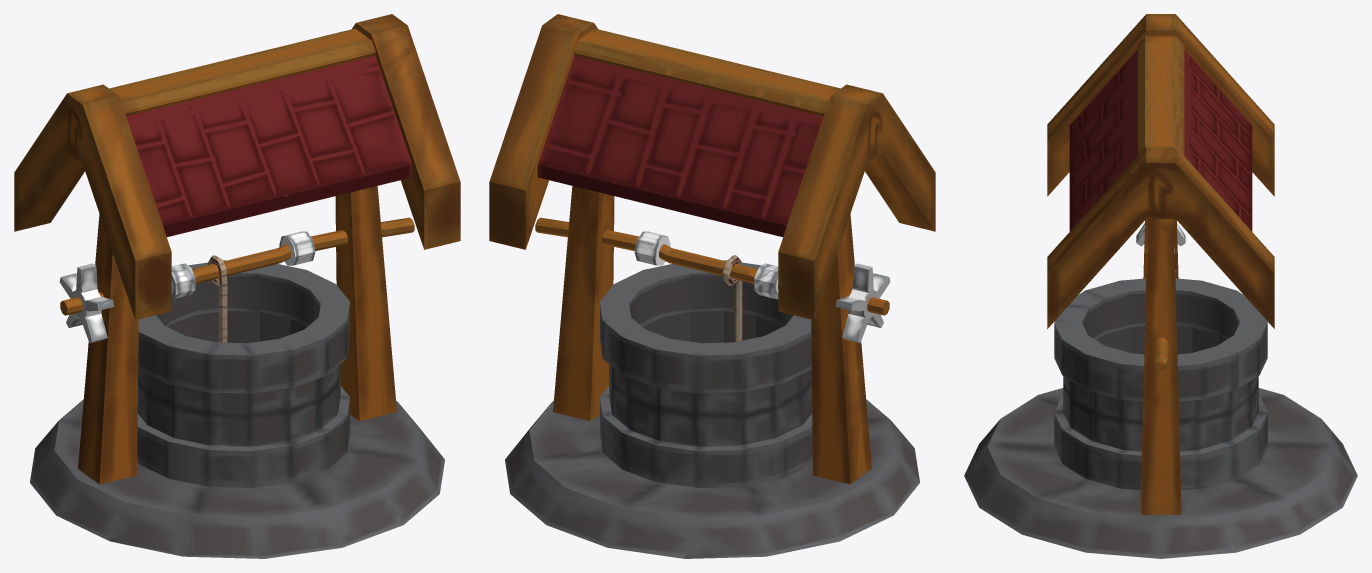
Rendered from WaterWell4.fbx.
3 renders of one model, left to right at view 1: azimuth 30°, elevation 25°; view 2: azimuth 150°, elevation 25°; view 3: azimuth 270°, elevation 25°, orthographic. The views are drawn at different scales.
Visible parts, largest first — view 1: telhadoCentro_low, base_low, telhadoLado_low, pilastra_low, pocoCima_low, pocoMeio_low, pocoBaixo_low, cabo_low, manilha_low, cabo1_low, corda_low, cabo2_low; view 2: telhadoCentro_low, base_low, telhadoLado_low, pilastra_low, pocoCima_low, pocoMeio_low, pocoBaixo_low, cabo_low, manilha_low, cabo1_low, corda_low, cabo2_low; view 3: base_low, telhadoLado_low, telhadoCentro_low, pocoCima_low, pilastra_low, pocoMeio_low, pocoBaixo_low.
Part boxes in pixels (x1,y1,x2,y2): telhadoCentro_low: (109, 28, 412, 236); base_low: (30, 399, 444, 558); telhadoLado_low: (14, 14, 460, 320); pilastra_low: (78, 186, 396, 484); pocoCima_low: (138, 260, 349, 393); pocoMeio_low: (137, 310, 340, 446); pocoBaixo_low: (137, 386, 349, 487); cabo_low: (60, 217, 414, 315); manilha_low: (59, 263, 113, 343); cabo1_low: (279, 231, 315, 265); corda_low: (207, 255, 227, 342); cabo2_low: (171, 263, 195, 299); telhadoCentro_low: (537, 28, 840, 236); base_low: (505, 399, 919, 558); telhadoLado_low: (489, 14, 935, 320); pilastra_low: (553, 186, 871, 484); pocoCima_low: (600, 260, 811, 393); pocoMeio_low: (609, 310, 812, 446); pocoBaixo_low: (600, 386, 812, 487); cabo_low: (535, 217, 889, 315); manilha_low: (836, 263, 890, 343); cabo1_low: (634, 231, 670, 265); corda_low: (722, 255, 742, 342); cabo2_low: (754, 263, 778, 299); base_low: (964, 388, 1357, 558); telhadoLado_low: (1047, 14, 1274, 328); telhadoCentro_low: (1069, 36, 1252, 231); pocoCima_low: (1054, 278, 1267, 401); pilastra_low: (1140, 219, 1181, 514); pocoMeio_low: (1063, 326, 1258, 451); pocoBaixo_low: (1054, 394, 1267, 490).
Bounding box in the file's own units: 501 × 544 × 501.
